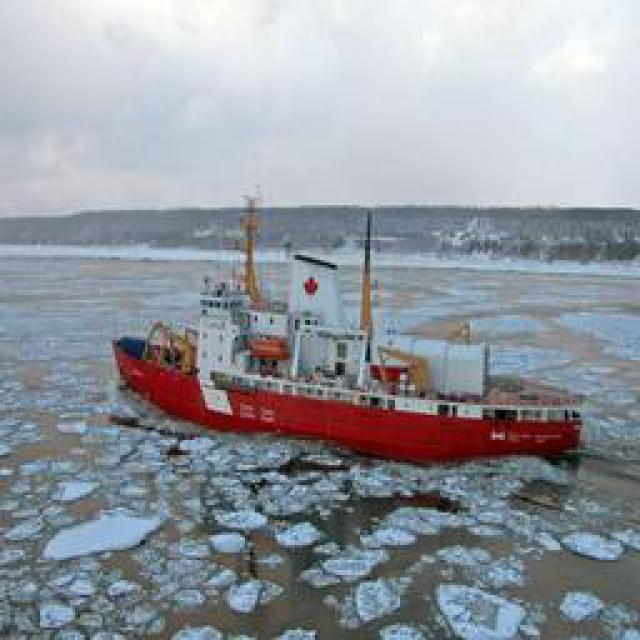Ship: (111, 230, 601, 475)
